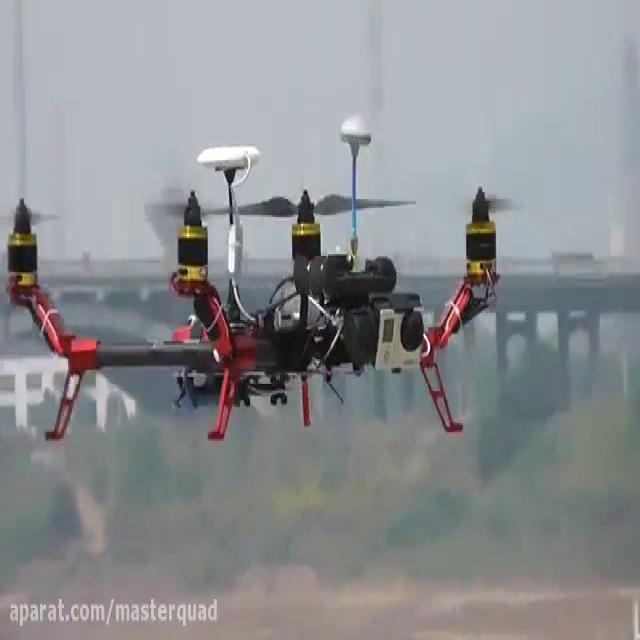drone: (0, 112, 534, 446)
